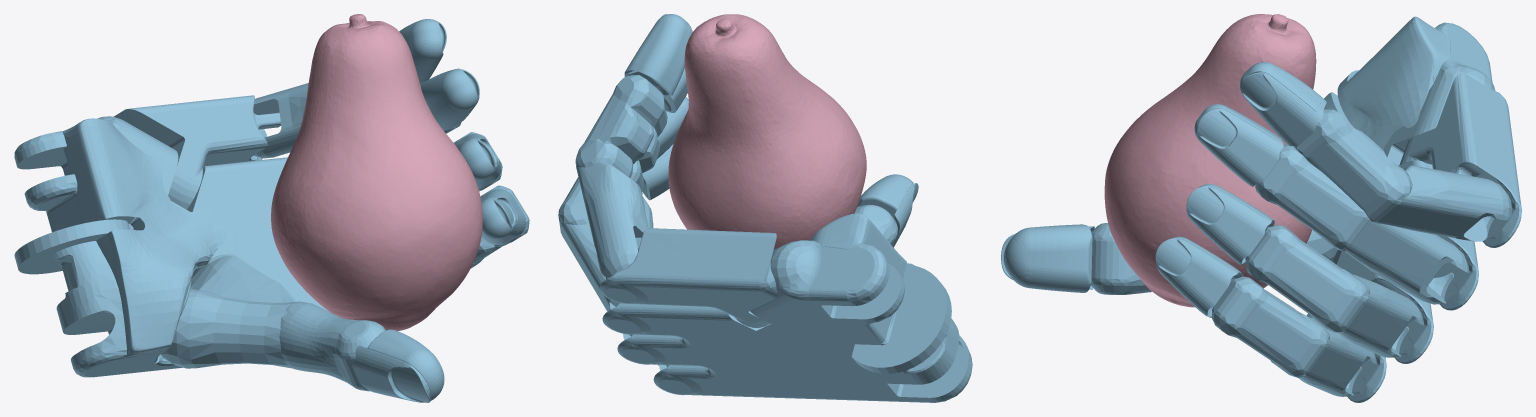
3 renders of one model, left to right at view 1: azimuth 30°, elevation 25°; view 2: azimuth 150°, elevation 25°; view 3: azimuth 270°, elevation 25°, orthographic. The views are drawn at different scales.
Visible parts, largest first — view 1: world; view 2: world; view 3: world.
Part boxes in pixels (box(x1,y1,x2,y2)): world: box(14, 14, 529, 402); world: box(558, 14, 972, 402); world: box(1001, 14, 1521, 402).
Bounding box in the file's own units: 0.1611 × 0.1304 × 0.1617.
